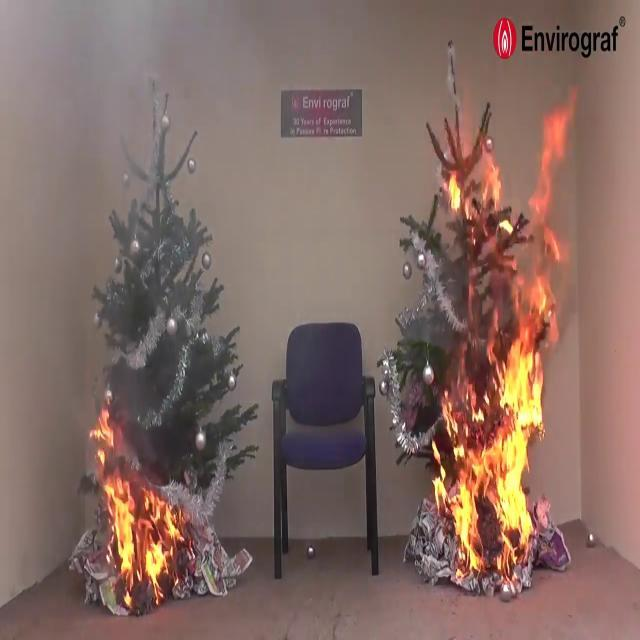Fire: (436, 90, 572, 578), (431, 345, 548, 581), (81, 420, 185, 598)
